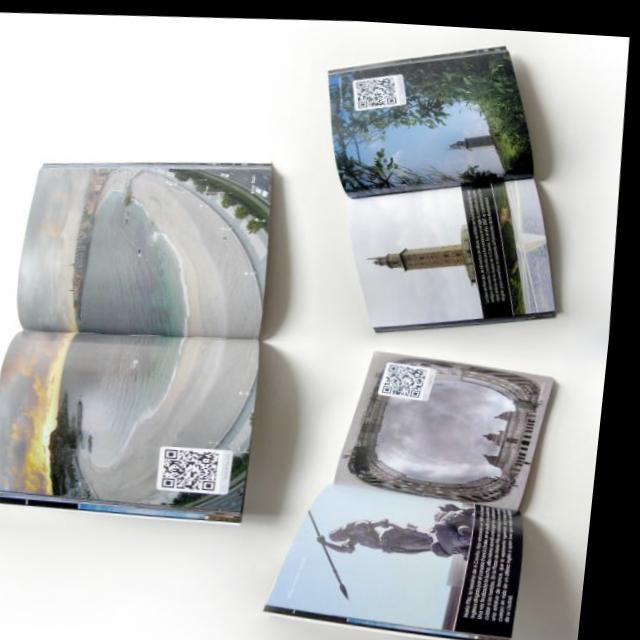qrcode: (171, 444, 231, 488), (356, 70, 402, 105), (390, 358, 436, 393)
